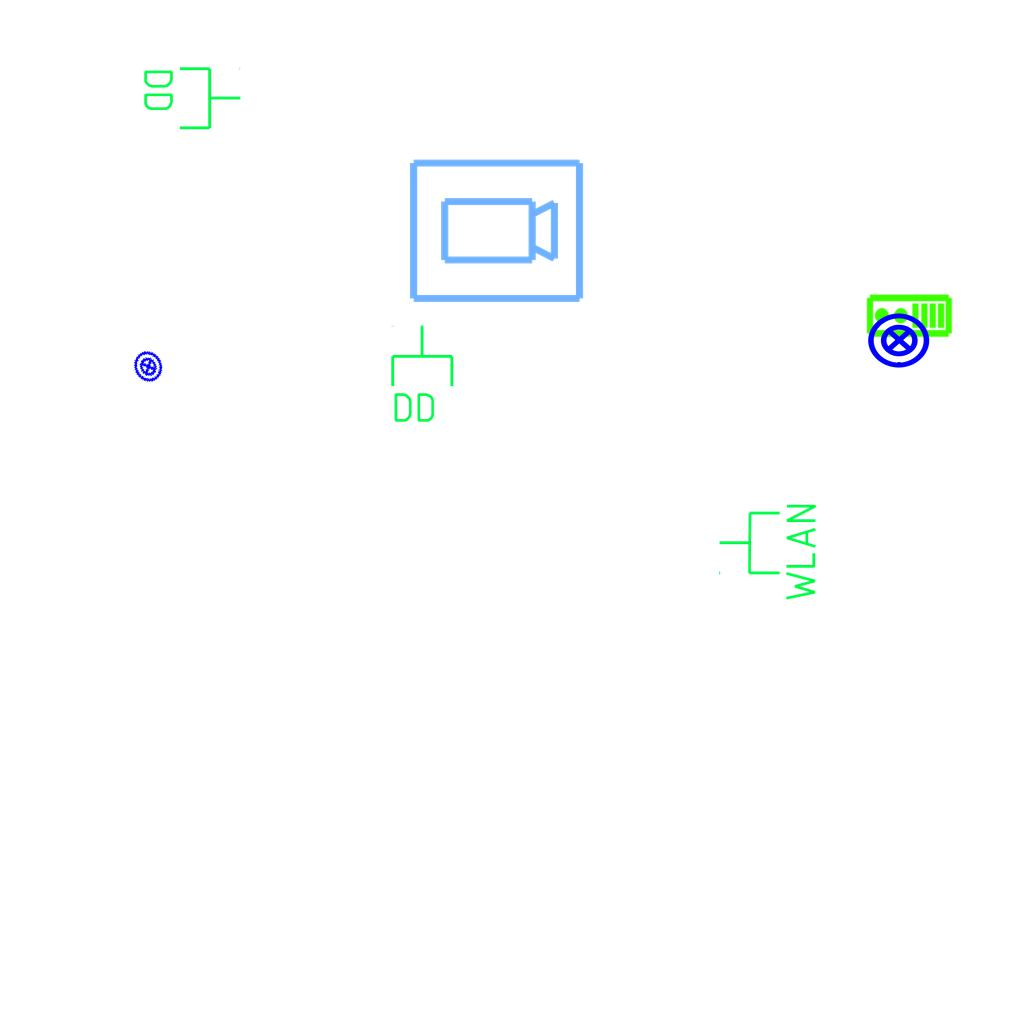Datenanschluss_zweifach: (140, 63, 243, 132), (387, 323, 456, 426)
Gegensprechanlage_mit_Video: (865, 293, 953, 340)
KFO_Kamera_mit_Festobjektiv: (405, 155, 587, 309)
Taster_beleuchtet: (866, 307, 932, 373), (126, 344, 171, 389)
WLAN: (716, 500, 820, 605)
